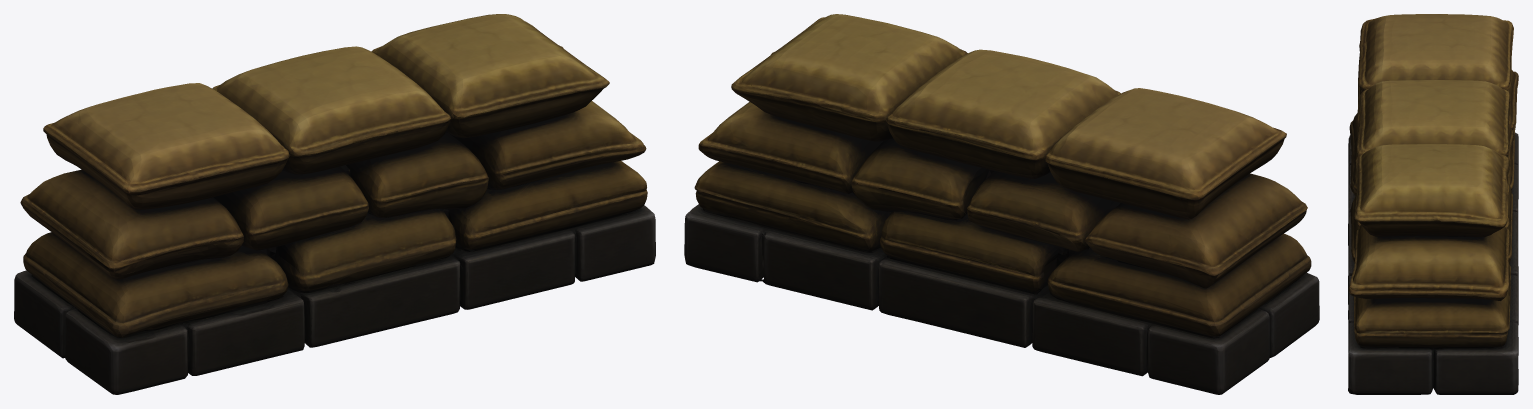
Rendered from Sandbag.glb.
3 views of the same model, side by side, from view 1: azimuth 30°, elevation 25°; view 2: azimuth 150°, elevation 25°; view 3: azimuth 270°, elevation 25° (orthographic). The views are drawn at different scales.
Visible parts, largest first — view 1: world; view 2: world; view 3: world.
Boxes of the visible parts, x1,y1,x2,y2 form: world: [14, 14, 655, 394]; world: [684, 14, 1319, 394]; world: [1348, 14, 1518, 394].
Size of the model in its own units: 0.9999 by 0.3849 by 0.3233.
1 material, 1 textured.
